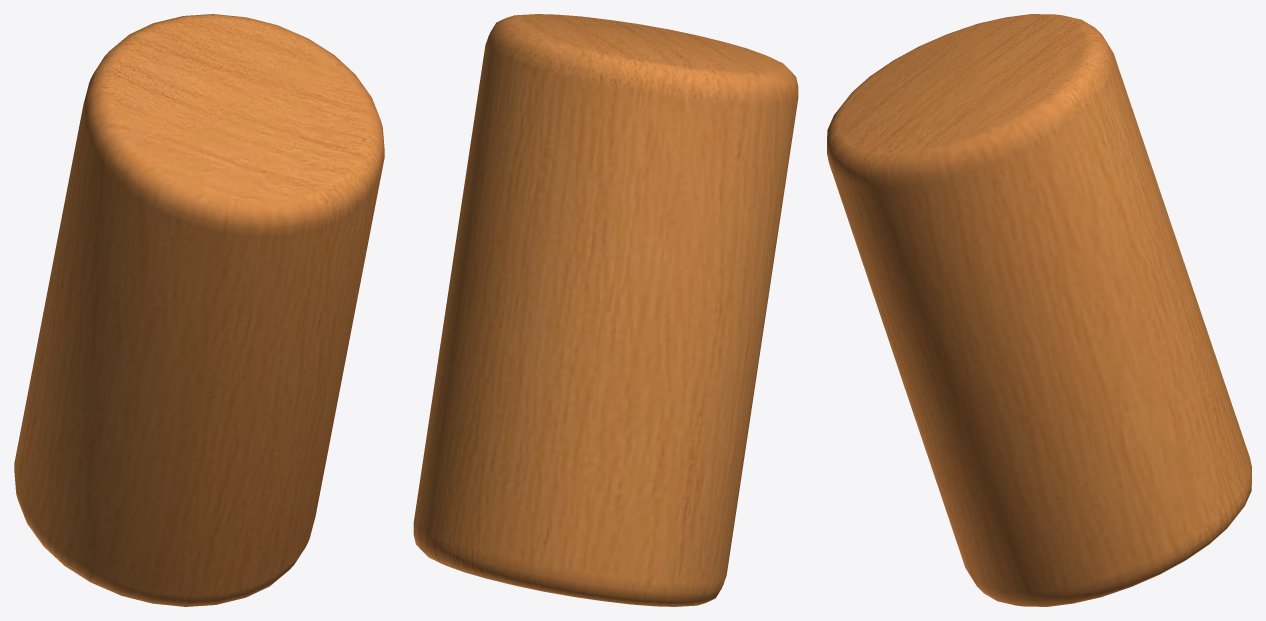
The model's file is peg.glb.
The picture shows the model from 3 angles, left to right: view 1: azimuth 30°, elevation 25°; view 2: azimuth 150°, elevation 25°; view 3: azimuth 270°, elevation 25°; orthographic projection. The views are drawn at different scales.
Parts seen in each view (by area): view 1: tripo_node_817e4ba6-9d8e-4c5c-b532-8102c7fe5496; view 2: tripo_node_817e4ba6-9d8e-4c5c-b532-8102c7fe5496; view 3: tripo_node_817e4ba6-9d8e-4c5c-b532-8102c7fe5496.
Boxes of the visible parts, left/top/right/bottom form: tripo_node_817e4ba6-9d8e-4c5c-b532-8102c7fe5496: left=14, top=14, right=384, bottom=606; tripo_node_817e4ba6-9d8e-4c5c-b532-8102c7fe5496: left=413, top=14, right=798, bottom=606; tripo_node_817e4ba6-9d8e-4c5c-b532-8102c7fe5496: left=827, top=14, right=1251, bottom=606.
Bounding box in the file's own units: 0.5073 × 0.9995 × 0.7202.
Materials: 1 (1 with a texture image).
